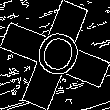O_S: (26, 23, 84, 87)
